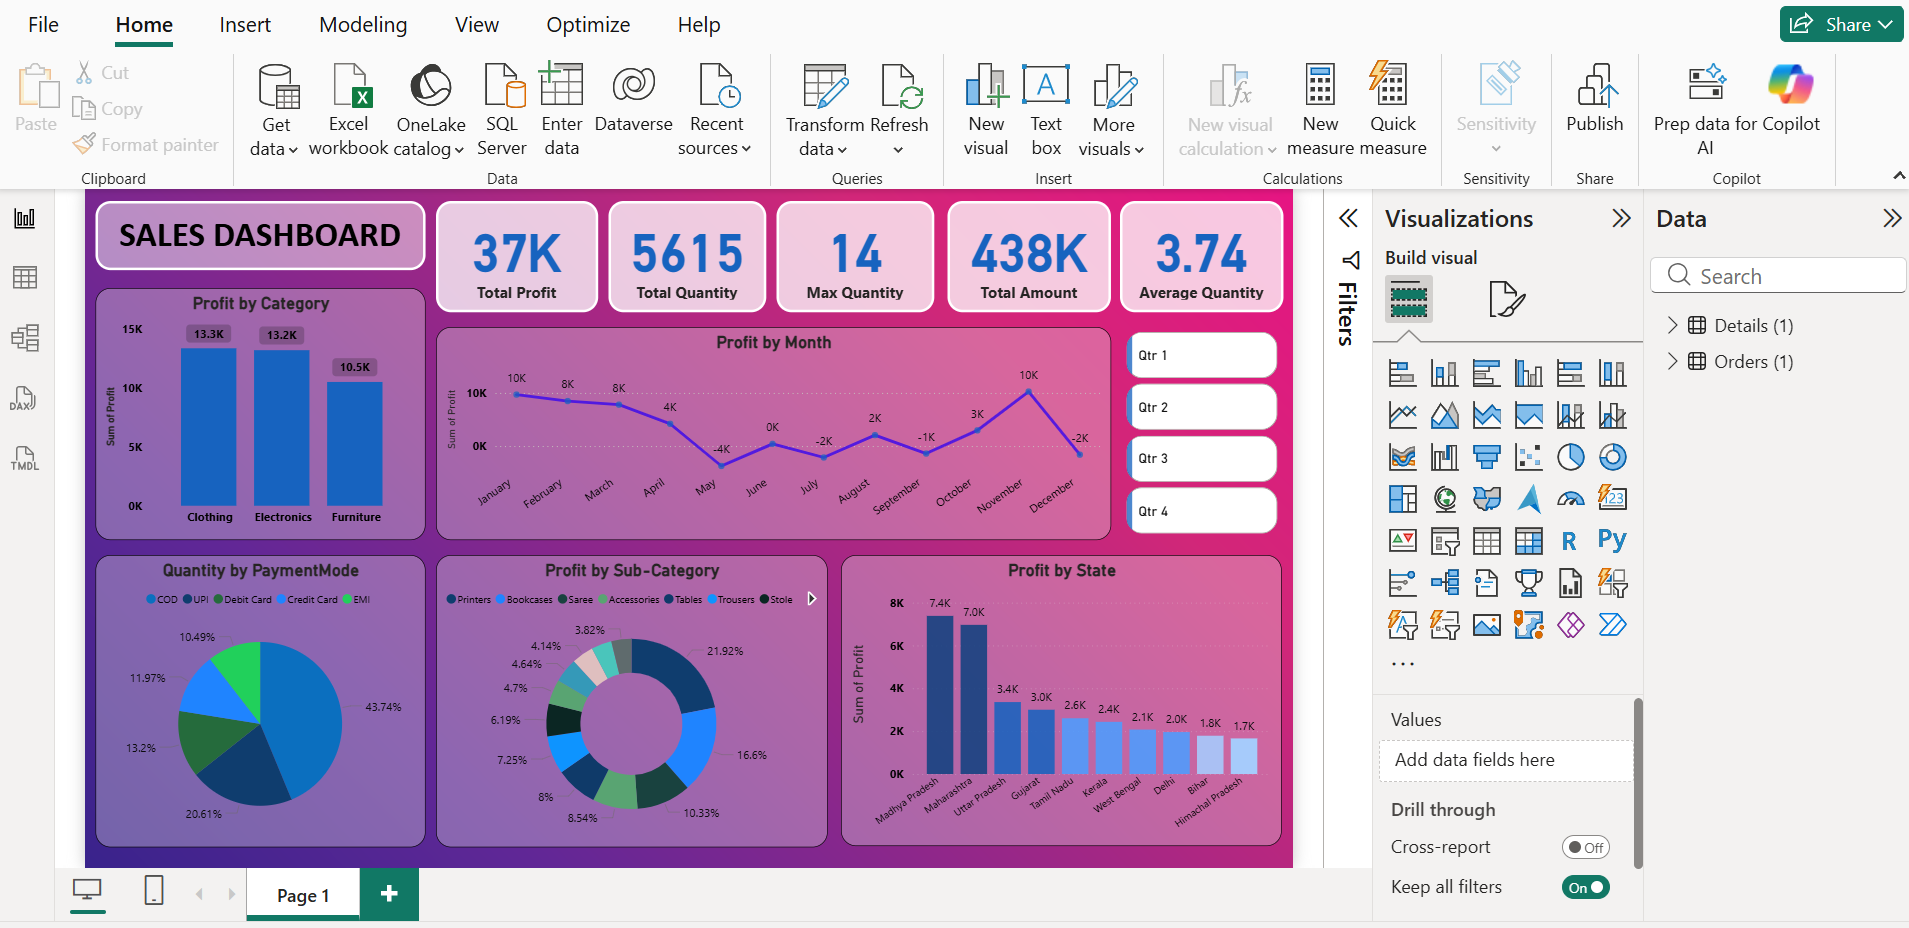

What the dashboard file says about the page in this screenshot:
{"tool":"powerbi","page":{"name":"Page 1","canvas":[1280,720],"ordinal":0},"visuals":[{"type":"textbox","box":[11.1,12.7,349.9,73.2],"z":0},{"type":"card","fields":{"Values":["Sum(Details (1).Profit)"]},"box":[372.2,12.7,171.8,117.7],"z":1000},{"type":"card","fields":{"Values":["Sum(Details (1).Quantity)"]},"box":[555.1,12.7,167,117.7],"z":2000},{"type":"card","fields":{"Values":["Max(Details (1).Quantity)"]},"box":[733.3,12.7,167,117.7],"z":3000},{"type":"card","fields":{"Values":["Sum(Details (1).Amount)"]},"box":[914.6,12.7,173.4,117.7],"z":4000},{"type":"columnChart","title":"Profit by Category","fields":{"Category":["Details (1).Category"],"Y":["Sum(Details (1).Profit)"]},"box":[11.1,105,349.9,267.2],"z":5000},{"type":"donutChart","title":" Profit by Sub-Category","fields":{"Category":["Details (1).Sub-Category"],"Y":["Sum(Details (1).Profit)"]},"box":[372.2,388.1,415.1,310.2],"z":6000},{"type":"pieChart","title":"  Quantity by PaymentMode","fields":{"Category":["Details (1).PaymentMode"],"Y":["Sum(Details (1).Quantity)"]},"box":[11.1,388.1,349.9,310.2],"z":7000},{"type":"lineChart","title":"  Profit by Month","fields":{"Category":["Orders (1).Order Date.Variation.Date Hierarchy.Month"],"Y":["Sum(Details (1).Profit)"]},"box":[372.2,146.3,715.8,225.9],"z":8000},{"type":"advancedSlicerVisual","fields":{"Values":["Orders (1).Order Date.Variation.Date Hierarchy.Quarter"]},"box":[1099.1,146.3,170.2,225.9],"z":9000},{"type":"columnChart","title":"  Profit by State","fields":{"Category":["Orders (1).State"],"Y":["Sum(Details (1).Profit)"]},"box":[801.7,388.1,467.6,308.6],"z":10000},{"type":"card","fields":{"Values":["Avg(Details (1).Quantity)"]},"box":[1097.5,12.7,173.4,117.7],"z":11000}]}

Visuals, with their boxes on the page's 1280x720 design canvas (x1, y1, x2, y2). These are canvas units, not pixel positions in the 1909x928 screenshot, which may show the page scaled, cropped or inside an application window:
textbox: x1=11 y1=13 x2=361 y2=86
card - Sum(Details (1).Profit): x1=372 y1=13 x2=544 y2=130
card - Sum(Details (1).Quantity): x1=555 y1=13 x2=722 y2=130
card - Max(Details (1).Quantity): x1=733 y1=13 x2=900 y2=130
card - Sum(Details (1).Amount): x1=915 y1=13 x2=1088 y2=130
"Profit by Category" columnChart: x1=11 y1=105 x2=361 y2=372
" Profit by Sub-Category" donutChart: x1=372 y1=388 x2=787 y2=698
"  Quantity by PaymentMode" pieChart: x1=11 y1=388 x2=361 y2=698
"  Profit by Month" lineChart: x1=372 y1=146 x2=1088 y2=372
advancedSlicerVisual - Orders (1).Order Date.Variation.Date Hierarchy.Quarter: x1=1099 y1=146 x2=1269 y2=372
"  Profit by State" columnChart: x1=802 y1=388 x2=1269 y2=697
card - Avg(Details (1).Quantity): x1=1098 y1=13 x2=1271 y2=130
